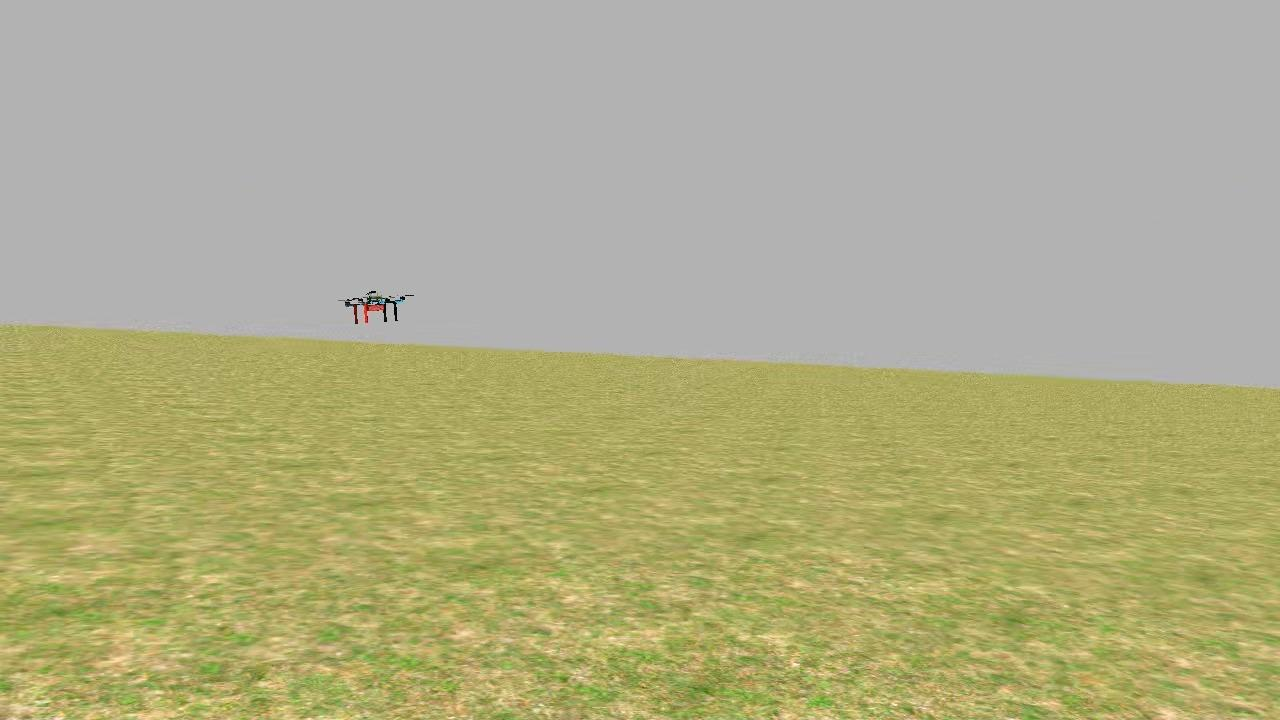UAV: (330, 282, 414, 335)
